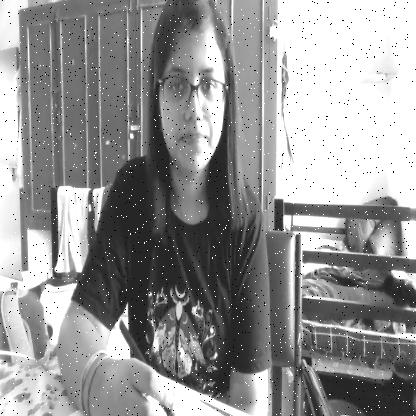Normal: (152, 0, 229, 186)
